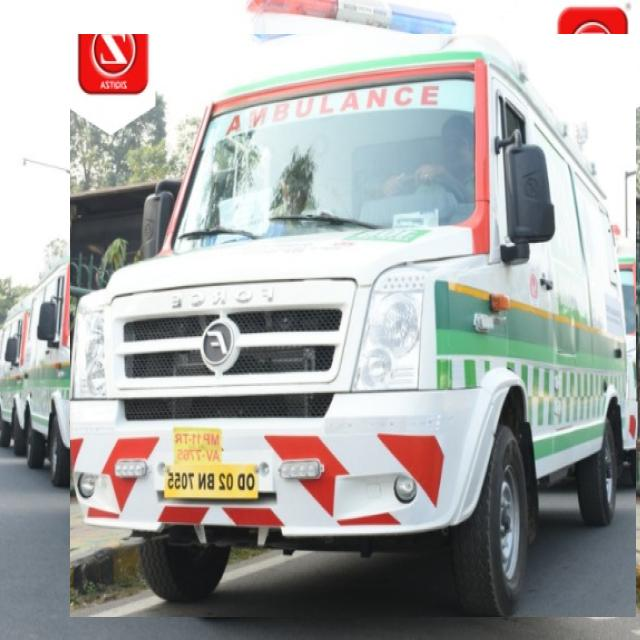emergency: (70, 35, 636, 617), (25, 259, 86, 484)
